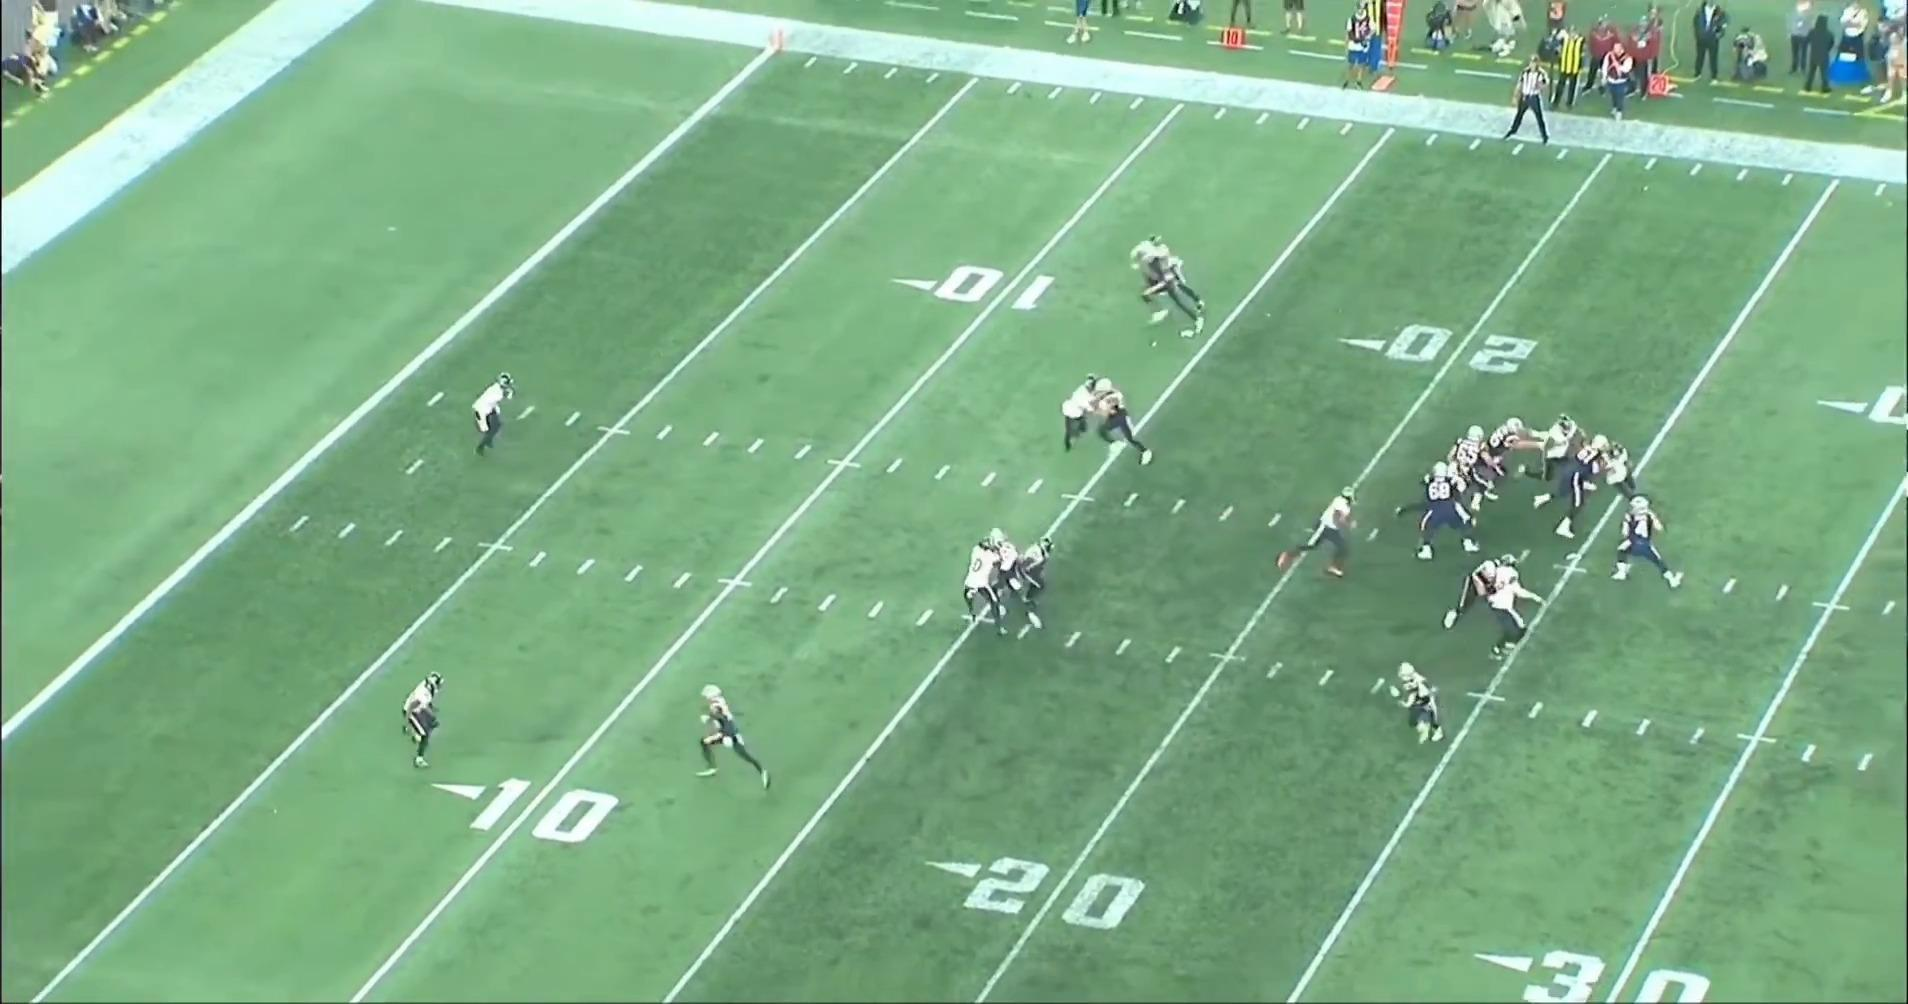player: (695, 680, 781, 793), (1268, 488, 1360, 585), (1531, 434, 1610, 539), (1606, 495, 1685, 592), (1414, 460, 1485, 565), (1085, 378, 1160, 473), (1524, 409, 1594, 509), (1486, 553, 1551, 660), (1392, 454, 1479, 526), (976, 527, 1039, 626), (1144, 246, 1208, 342), (958, 529, 1018, 631), (1480, 417, 1547, 503), (1440, 556, 1510, 636), (1004, 537, 1060, 631), (395, 665, 445, 770), (1396, 657, 1453, 745), (1444, 423, 1494, 518), (1054, 372, 1108, 459), (1576, 433, 1638, 507), (470, 373, 519, 466), (1130, 235, 1181, 313)
ref: (1501, 57, 1557, 146)
